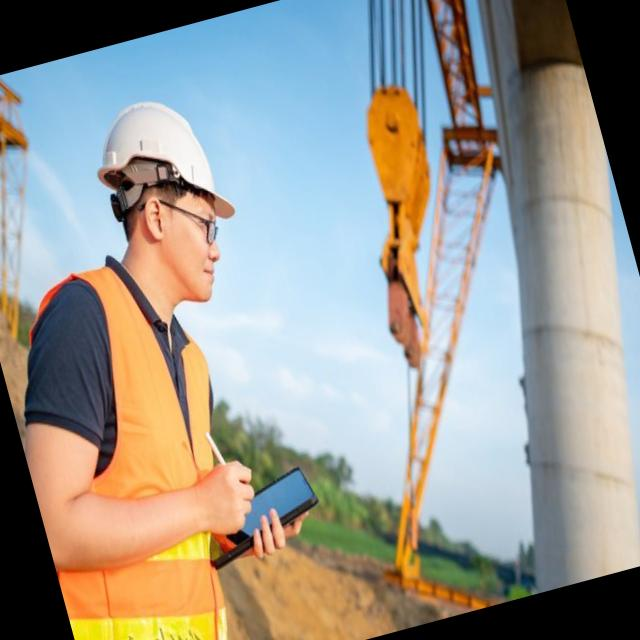helmet: (80, 83, 239, 250)
no-goggles: (152, 185, 230, 260)
vest: (0, 241, 291, 640)
